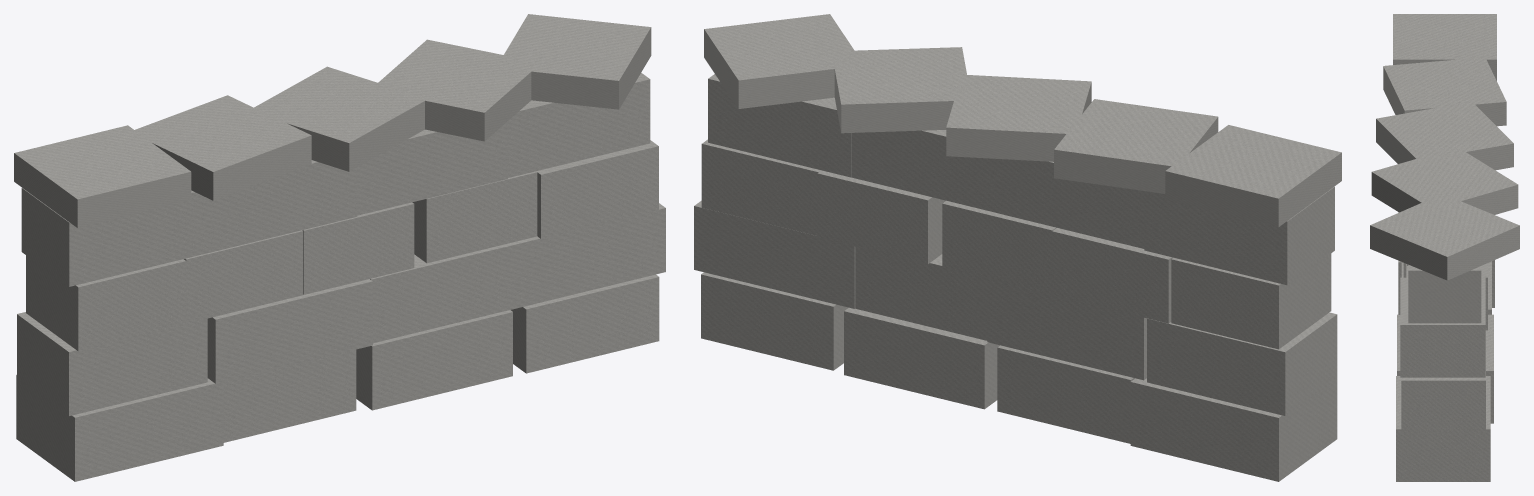
Rendered from andean-terraces-and-stone-village-stone-corral-wall-4c6d383e__38254.glb.
3 views of the same model, side by side, from view 1: azimuth 30°, elevation 25°; view 2: azimuth 150°, elevation 25°; view 3: azimuth 270°, elevation 25° (orthographic). The views are drawn at different scales.
Visible parts, largest first — view 1: stone-corral-wall-stone; view 2: stone-corral-wall-stone; view 3: stone-corral-wall-stone.
Part boxes in pixels (<box>): stone-corral-wall-stone: <box>14,14,665,481</box>; stone-corral-wall-stone: <box>694,14,1341,481</box>; stone-corral-wall-stone: <box>1370,14,1519,481</box>.
Bounding box in the file's own units: 3.1 × 1.39 × 0.8061.
Materials: 1 (1 with a texture image).
